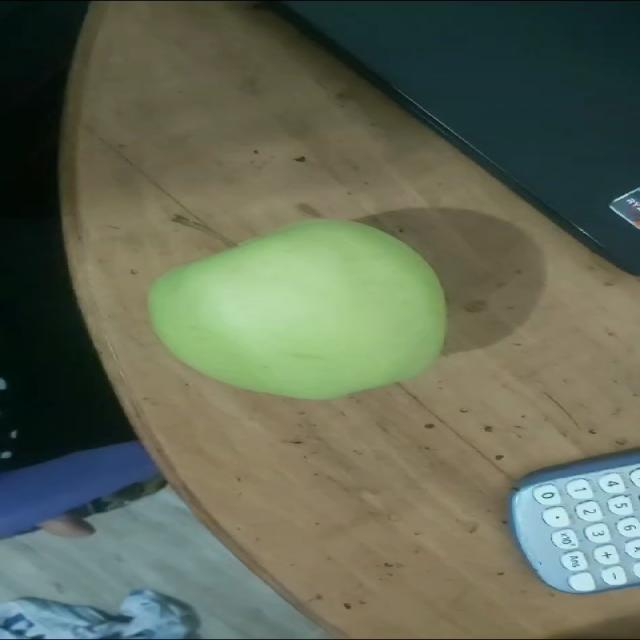50-_ripeness: (140, 219, 447, 400)
